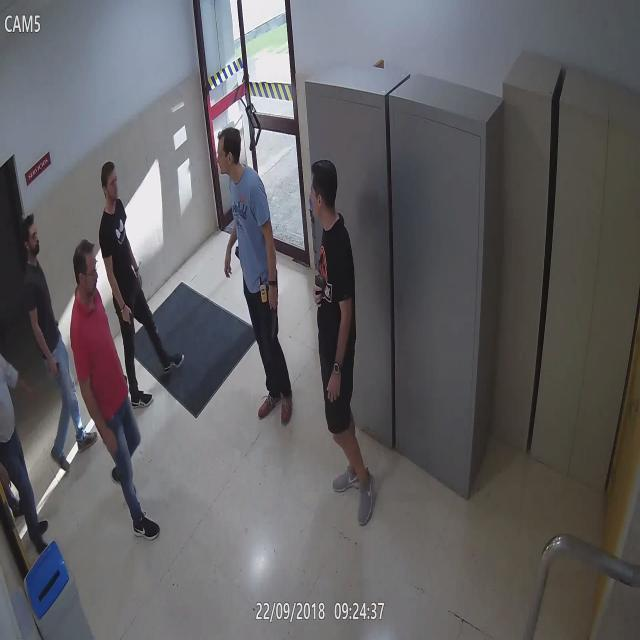gun: (121, 306, 137, 360), (313, 275, 327, 313), (47, 360, 63, 392)
